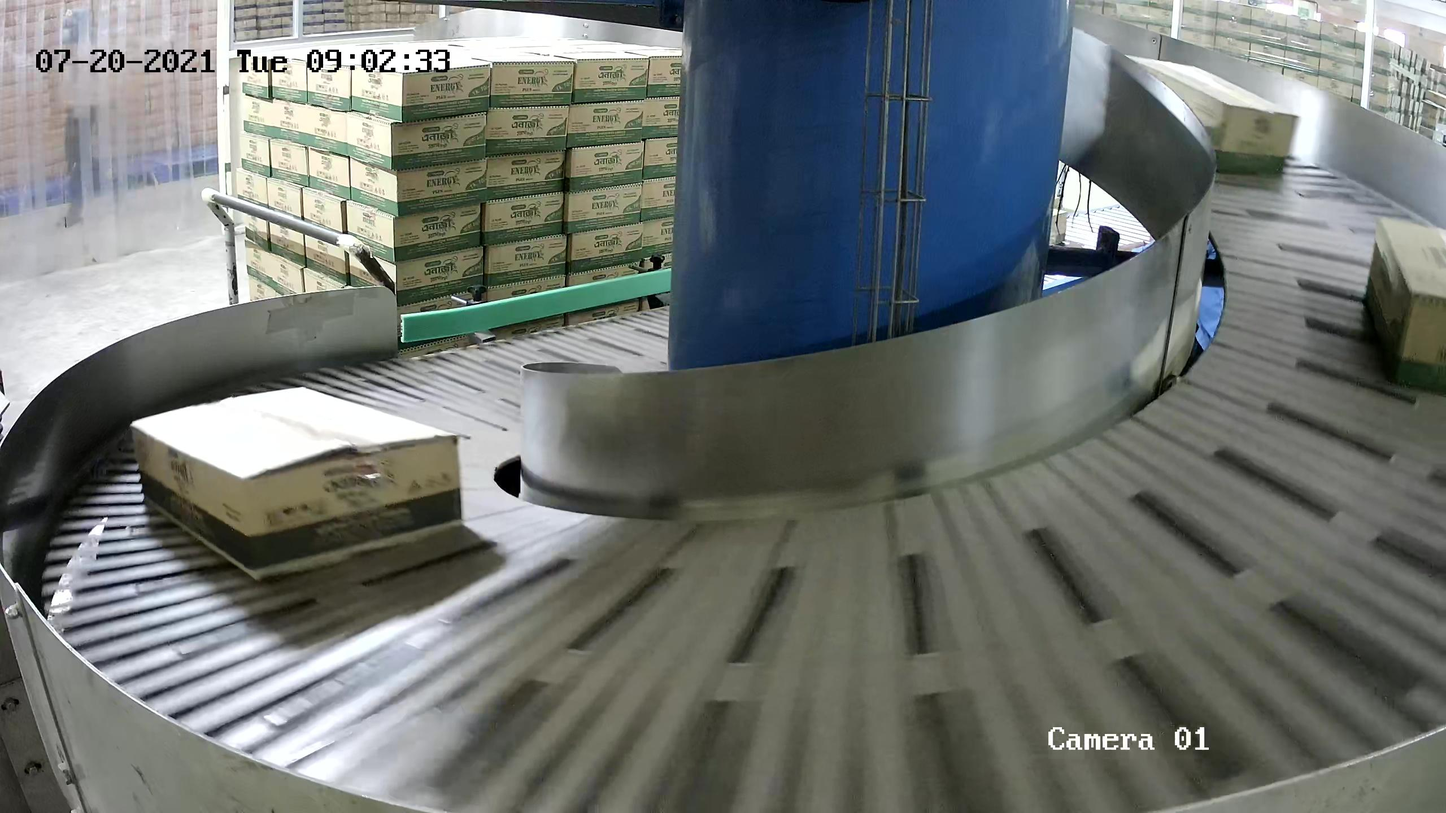Box: (127, 382, 467, 584), (1121, 50, 1301, 175), (1361, 213, 1446, 397)
